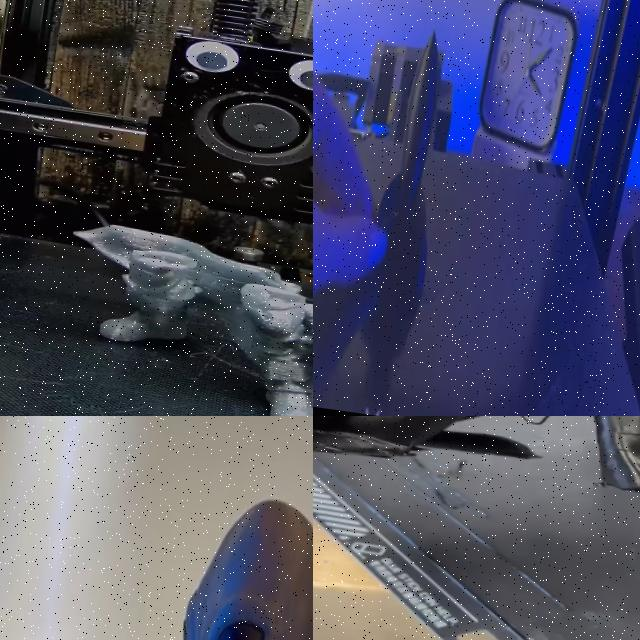spaghetti: (493, 416, 573, 436)
